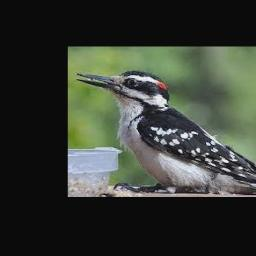Woodpecker: (76, 71, 256, 194)
